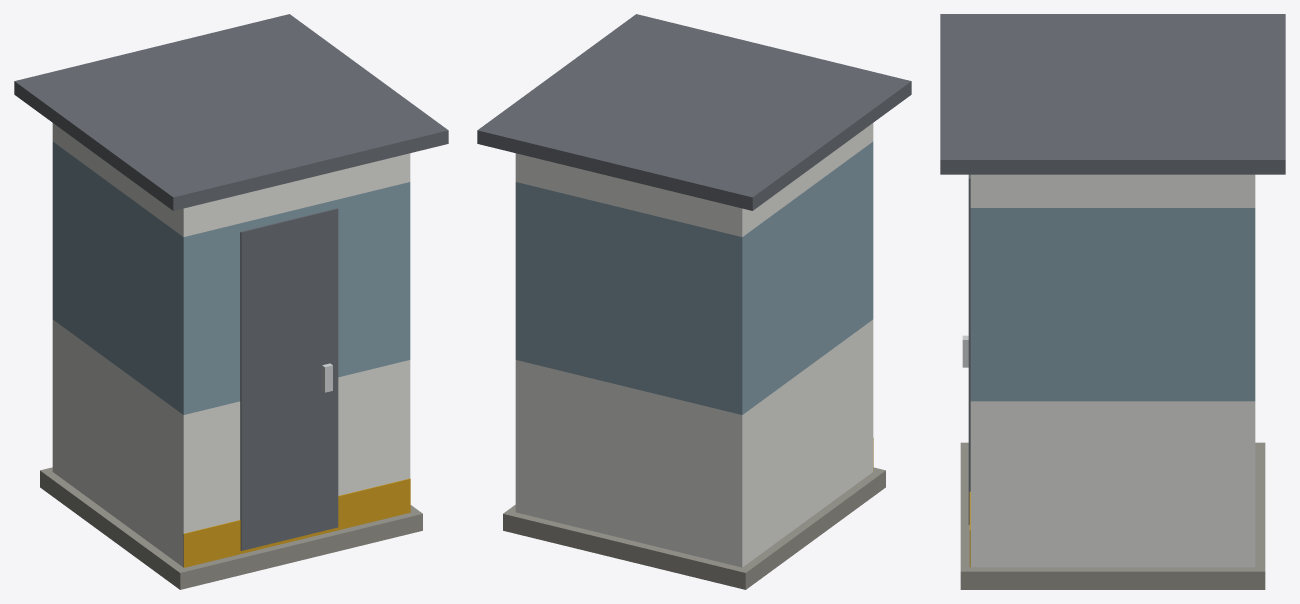
The model's file is guard_booth.glb.
3 renders of one model, left to right at view 1: azimuth 30°, elevation 25°; view 2: azimuth 150°, elevation 25°; view 3: azimuth 270°, elevation 25°, orthographic. The views are drawn at different scales.
Parts seen in each view (by area): view 1: guard_booth; view 2: guard_booth; view 3: guard_booth.
Boxes of the visible parts, left/top/right/bottom form: guard_booth: left=14, top=14, right=448, bottom=589; guard_booth: left=477, top=14, right=911, bottom=589; guard_booth: left=940, top=14, right=1285, bottom=589.
Size of the model in its own units: 1.7 by 2.38 by 1.7.
1 material, 1 textured.
